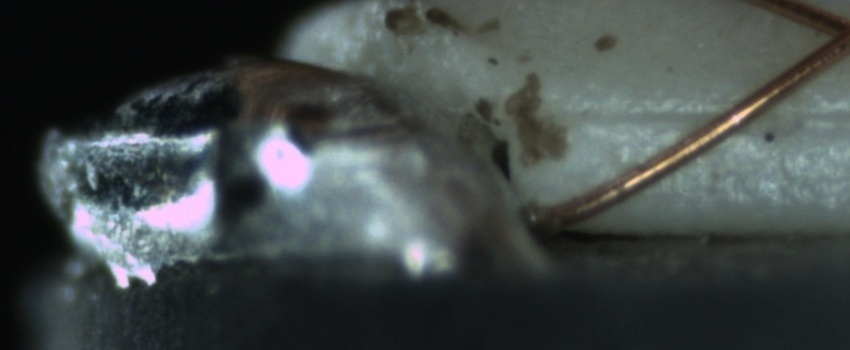CL: (805, 1, 850, 64)
DL: (573, 80, 845, 152)
